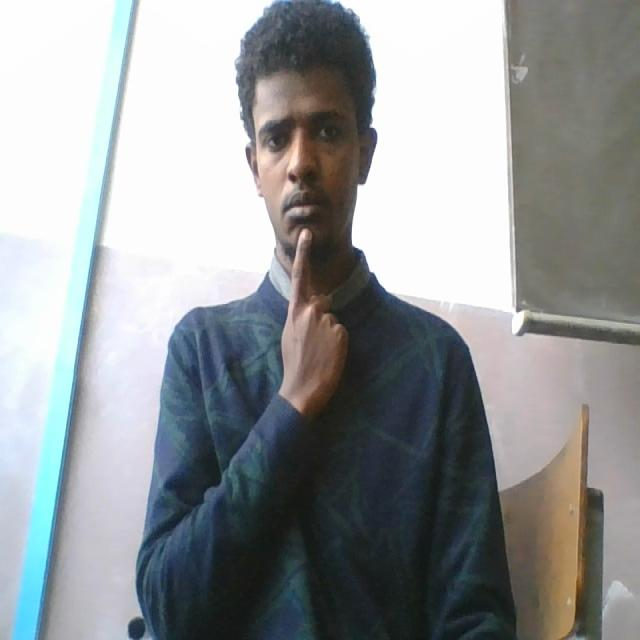lomi: (280, 204, 356, 438)
